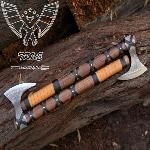Kapak: (2, 30, 144, 130)
